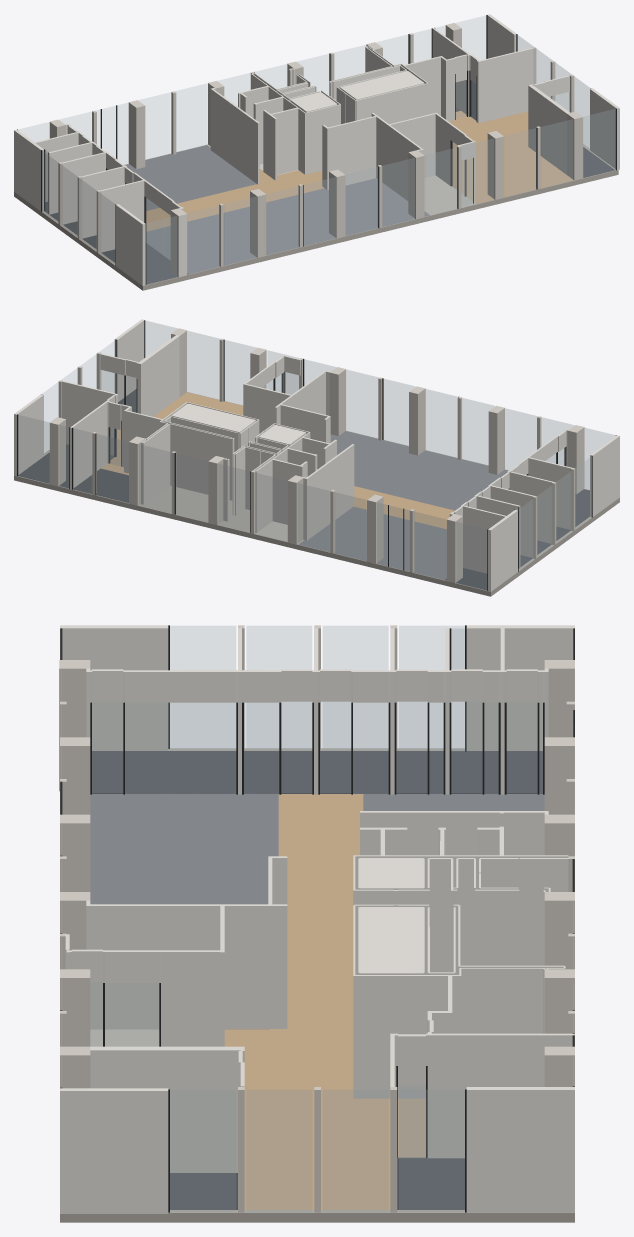
Rendered from WM_ARQ.glb.
The picture shows the model from 3 angles, top to bottom: view 1: azimuth 30°, elevation 25°; view 2: azimuth 150°, elevation 25°; view 3: azimuth 270°, elevation 25°; orthographic projection. The views are drawn at different scales.
Visible parts, largest first — view 1: Muros, Vidrio, PISO_Alfombra_Gris_Claro, Columnas, PISO_LVT_Madera, Losa, Canceleria, PISO_Alfombra_Gris_Oscuro, PISO_LVT_Concreto; view 2: Muros, Vidrio, Columnas, PISO_Alfombra_Gris_Claro, Losa, PISO_Alfombra_Gris_Oscuro, PISO_LVT_Madera, Canceleria, PISO_Concreto_Nucleo, PISO_LVT_Concreto; view 3: Muros, Vidrio, PISO_LVT_Madera, Columnas, PISO_Alfombra_Gris_Oscuro, PISO_Alfombra_Gris_Claro, Losa, Canceleria, PISO_LVT_Concreto.
Boxes of the visible parts, box(x1,y1,x2,y2) form: Muros: box(14, 14, 619, 285); Vidrio: box(18, 16, 615, 284); PISO_Alfombra_Gris_Claro: box(125, 145, 429, 274); Columnas: box(49, 23, 583, 276); PISO_LVT_Madera: box(146, 111, 573, 231); Losa: box(14, 144, 618, 290); Canceleria: box(17, 15, 616, 284); PISO_Alfombra_Gris_Oscuro: box(44, 81, 614, 284); PISO_LVT_Concreto: box(207, 144, 475, 215); Muros: box(14, 319, 619, 591); Vidrio: box(18, 320, 615, 590); Columnas: box(49, 328, 584, 582); PISO_Alfombra_Gris_Claro: box(298, 431, 508, 579); Losa: box(14, 387, 619, 596); PISO_Alfombra_Gris_Oscuro: box(18, 389, 589, 590); PISO_LVT_Madera: box(101, 392, 454, 529); Canceleria: box(17, 320, 616, 590); PISO_Concreto_Nucleo: box(138, 485, 255, 533); PISO_LVT_Concreto: box(255, 521, 303, 544); Muros: box(59, 625, 574, 1213); Vidrio: box(61, 626, 573, 1212); PISO_LVT_Madera: box(224, 794, 425, 1209); Columnas: box(60, 625, 574, 1212); PISO_Alfombra_Gris_Oscuro: box(92, 751, 542, 1209); PISO_Alfombra_Gris_Claro: box(90, 794, 544, 1029); Losa: box(60, 748, 574, 1222); Canceleria: box(60, 625, 574, 1212); PISO_LVT_Concreto: box(90, 1029, 159, 1046).
Bounding box in the file's own units: 32.52 × 4.32 × 15.23.
